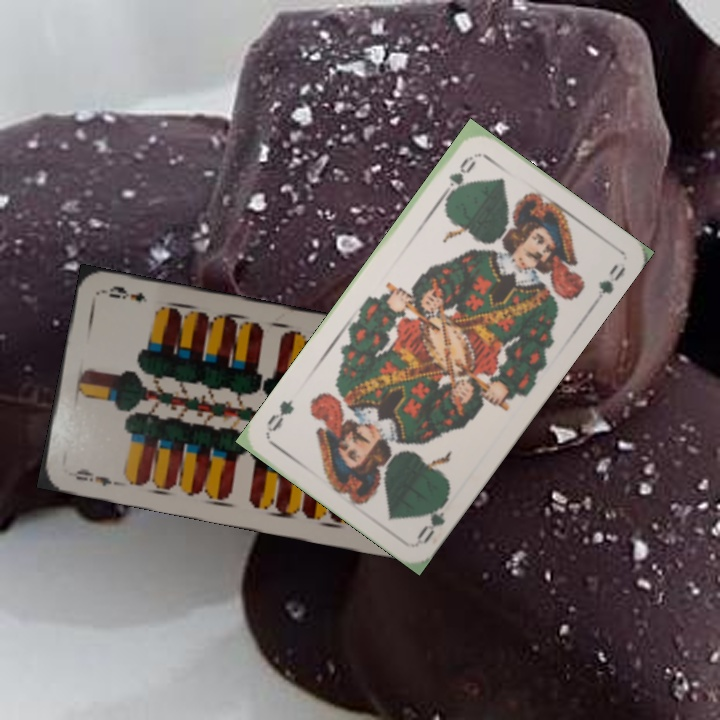E9: (64, 464, 123, 489)
GO: (436, 151, 479, 205), (413, 491, 452, 547)
